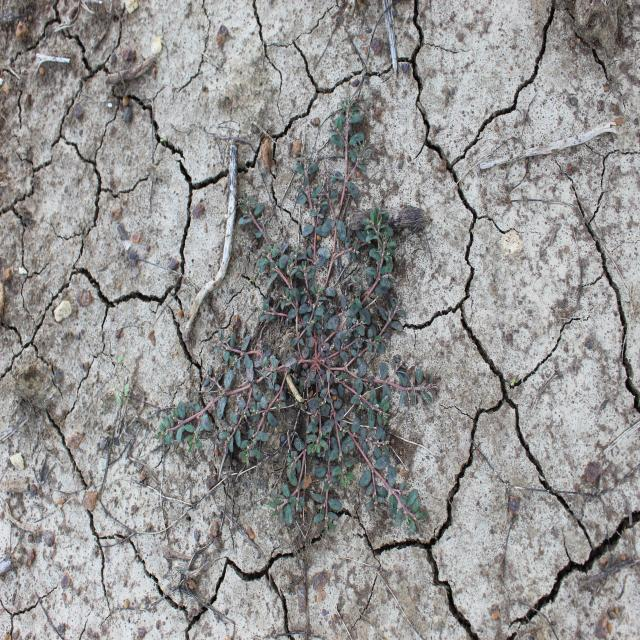SpottedSpurge: (153, 91, 442, 548)
